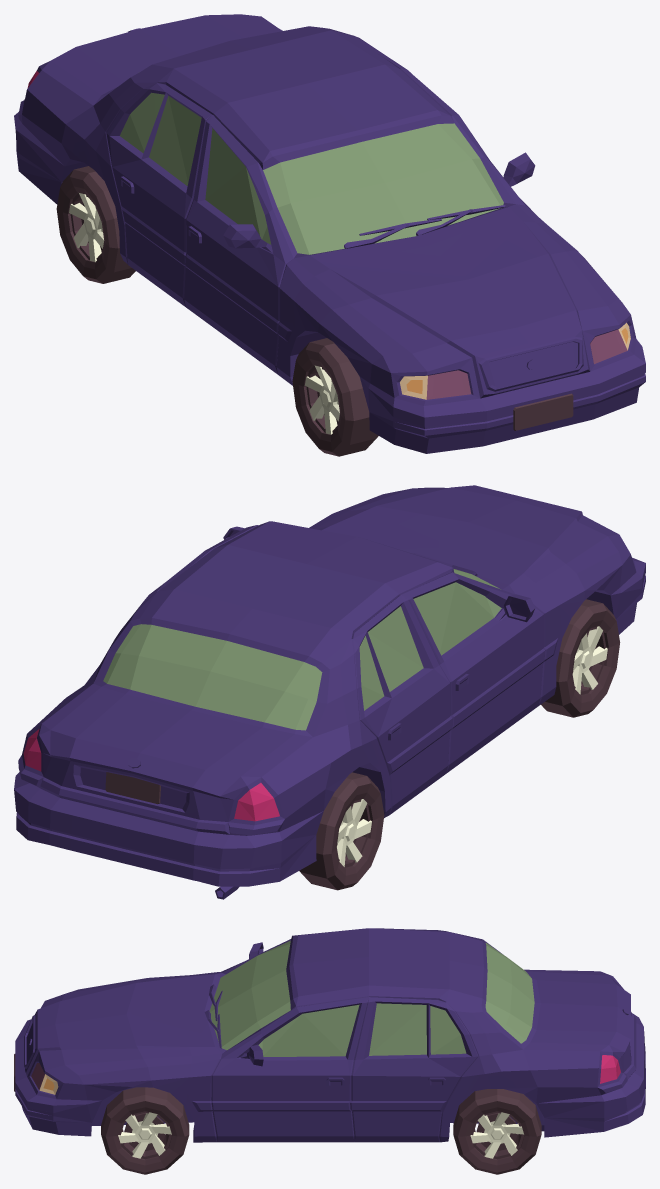
Rendered from SM_Veh_Car_Sedan_01.fbx.
The picture shows the model from 3 angles, top to bottom: view 1: azimuth 30°, elevation 25°; view 2: azimuth 150°, elevation 25°; view 3: azimuth 270°, elevation 25°; orthographic projection. The views are drawn at different scales.
Visible parts, largest first — view 1: SM_Veh_Car_Sedan_01, SM_Veh_Car_Sedan_Glass, SM_Veh_Car_Sedan_Wheel_fl, SM_Veh_Car_Sedan_Wheel_fl.001, SM_Veh_Car_Sedan_Plates; view 2: SM_Veh_Car_Sedan_01, SM_Veh_Car_Sedan_Glass, SM_Veh_Car_Sedan_Wheel_fl.001, SM_Veh_Car_Sedan_Wheel_fl, SM_Veh_Car_Sedan_Plates; view 3: SM_Veh_Car_Sedan_01, SM_Veh_Car_Sedan_Glass, SM_Veh_Car_Sedan_Wheel_fl, SM_Veh_Car_Sedan_Wheel_fl.001.
Boxes of the visible parts, x1=… form: SM_Veh_Car_Sedan_01: x1=14, y1=14, x2=645, y2=453; SM_Veh_Car_Sedan_Glass: x1=120, y1=92, x2=503, y2=254; SM_Veh_Car_Sedan_Wheel_fl: x1=292, y1=338, x2=378, y2=456; SM_Veh_Car_Sedan_Wheel_fl.001: x1=56, y1=166, x2=135, y2=283; SM_Veh_Car_Sedan_Plates: x1=513, y1=393, x2=573, y2=430; SM_Veh_Car_Sedan_01: x1=14, y1=485, x2=645, y2=899; SM_Veh_Car_Sedan_Glass: x1=103, y1=569, x2=501, y2=730; SM_Veh_Car_Sedan_Wheel_fl.001: x1=299, y1=772, x2=384, y2=890; SM_Veh_Car_Sedan_Wheel_fl: x1=541, y1=599, x2=620, y2=717; SM_Veh_Car_Sedan_Plates: x1=105, y1=772, x2=160, y2=804; SM_Veh_Car_Sedan_01: x1=15, y1=928, x2=645, y2=1142; SM_Veh_Car_Sedan_Glass: x1=209, y1=940, x2=534, y2=1056; SM_Veh_Car_Sedan_Wheel_fl: x1=101, y1=1087, x2=189, y2=1174; SM_Veh_Car_Sedan_Wheel_fl.001: x1=453, y1=1089, x2=541, y2=1174.
Bounding box in the file's own units: 21.72 × 15.35 × 51.75.
